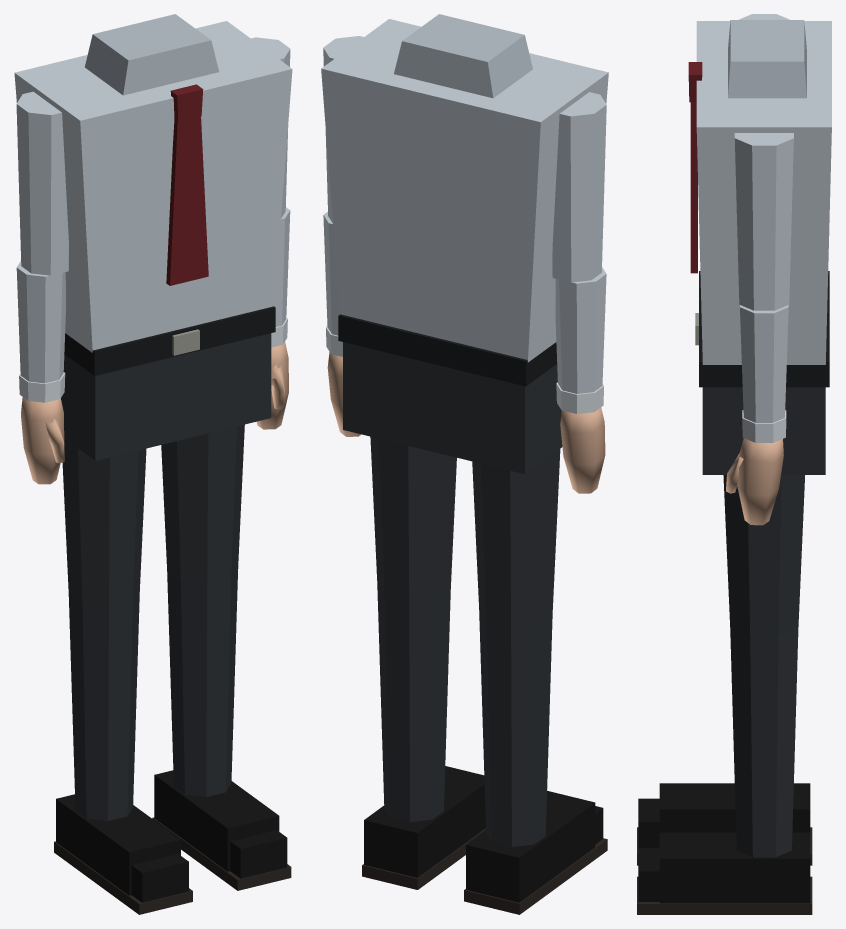
The model's file is PlayerBody.fbx.
The picture shows the model from 3 angles, left to right: view 1: azimuth 30°, elevation 25°; view 2: azimuth 150°, elevation 25°; view 3: azimuth 270°, elevation 25°; orthographic projection. The views are drawn at different scales.
Visible parts, largest first — view 1: Torso, Hips, Shin_L, Shin_R, Thigh_R, Thigh_L, UpperArm_R, Collar, Tie, Shoe_L, Shoe_R, Forearm_R (+11 smaller); view 2: Torso, Hips, Shin_R, Shin_L, Thigh_R, Thigh_L, UpperArm_R, Collar, Shoe_R, Shoe_L, Belt, Forearm_R (+7 smaller); view 3: Torso, Shin_L, Thigh_L, UpperArm_L, Shoe_L, Hips, Collar, Forearm_L, Shoe_R, Hand_L, Belt, Sole_L (+4 smaller).
Boxes of the visible parts, x1,y1,x2,y2 form: Torso: (14,21,292,352); Hips: (61,333,271,460); Shin_L: (167,566,238,796); Shin_R: (68,590,139,820); Thigh_R: (62,438,146,607); Thigh_L: (161,424,244,583); UpperArm_R: (16,91,68,275); Collar: (84,14,218,95); Tie: (166,84,208,285); Shoe_L: (154,770,279,871); Shoe_R: (56,794,180,895); Forearm_R: (16,261,65,383); Torso: (321,19,608,362); Hips: (343,342,562,474); Shin_R: (479,608,552,846); Shin_L: (377,584,450,822); Thigh_R: (472,449,560,625); Thigh_L: (370,436,456,600); UpperArm_R: (552,92,606,282); Collar: (394,14,532,98); Shoe_R: (466,790,595,902); Shoe_L: (364,766,485,877); Belt: (338,314,557,386); Forearm_R: (555,267,606,393); Torso: (696,21,831,364); Shin_L: (730,629,798,857); Thigh_L: (723,475,804,637); UpperArm_L: (734,133,793,310); Shoe_L: (659,832,810,903); Hips: (702,387,825,474); Collar: (728,20,806,98); Forearm_L: (740,305,788,422); Shoe_R: (659,783,810,832); Hand_L: (726,438,783,525); Belt: (699,271,829,387); Sole_L: (637,876,812,914).
Bounding box in the file's own units: 50.95 × 150 × 31.7.
Materials: 1 (1 with a texture image).
